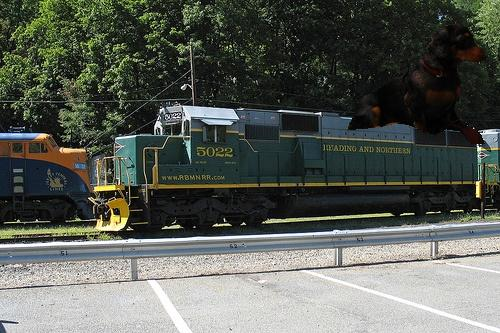tampered: (349, 24, 488, 144)
